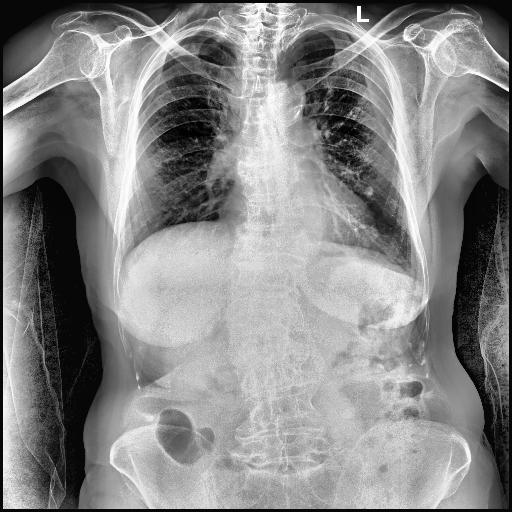0- Aortic enlargement: (272, 77, 306, 122), (274, 78, 305, 120)
11- Pleural thickening: (174, 28, 227, 41)
2- Calcification: (364, 186, 374, 196)
3- Cardiomegaly: (216, 188, 380, 246), (222, 196, 380, 248)
8- Nodule-Mass: (364, 184, 374, 198), (364, 186, 372, 198)
9- Other lesion: (364, 184, 374, 198)
